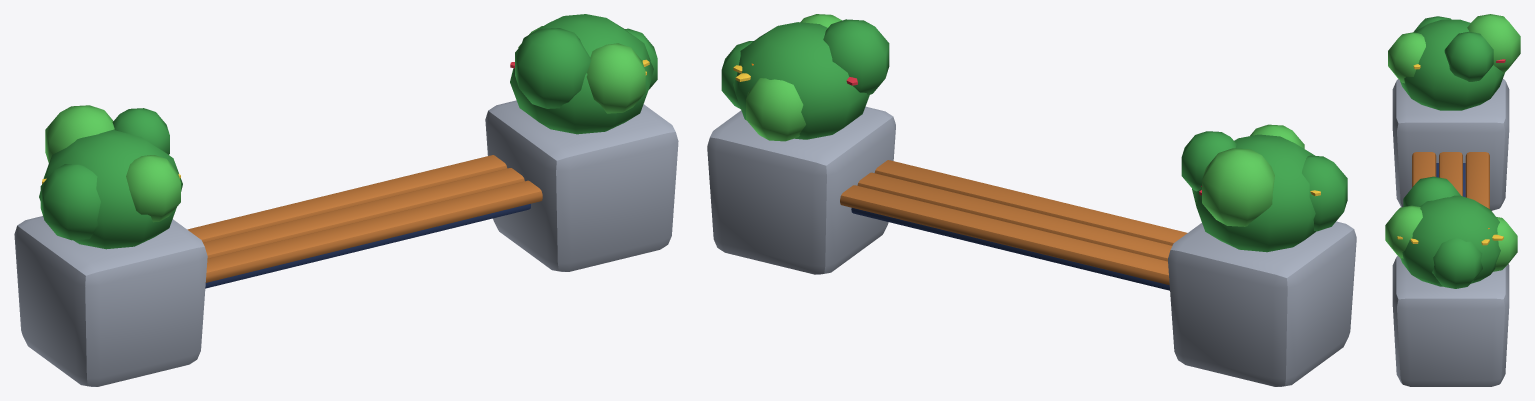
Rendered from W1_Bench_B.fbx.
3 views of the same model, side by side, from view 1: azimuth 30°, elevation 25°; view 2: azimuth 150°, elevation 25°; view 3: azimuth 270°, elevation 25° (orthographic). The views are drawn at different scales.
Parts seen in each view (by area): view 1: W1_Bench_B; view 2: W1_Bench_B; view 3: W1_Bench_B.
Part boxes in pixels (x1,y1,x2,y2): W1_Bench_B: [14, 14, 678, 386]; W1_Bench_B: [707, 14, 1356, 386]; W1_Bench_B: [1385, 14, 1520, 386].
Size of the model in its own units: 4.09 by 1.45 by 1.01.
